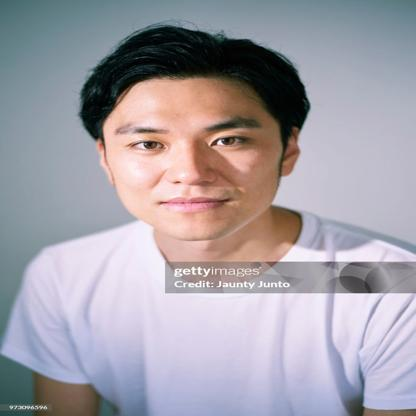person: (10, 15, 416, 416)
